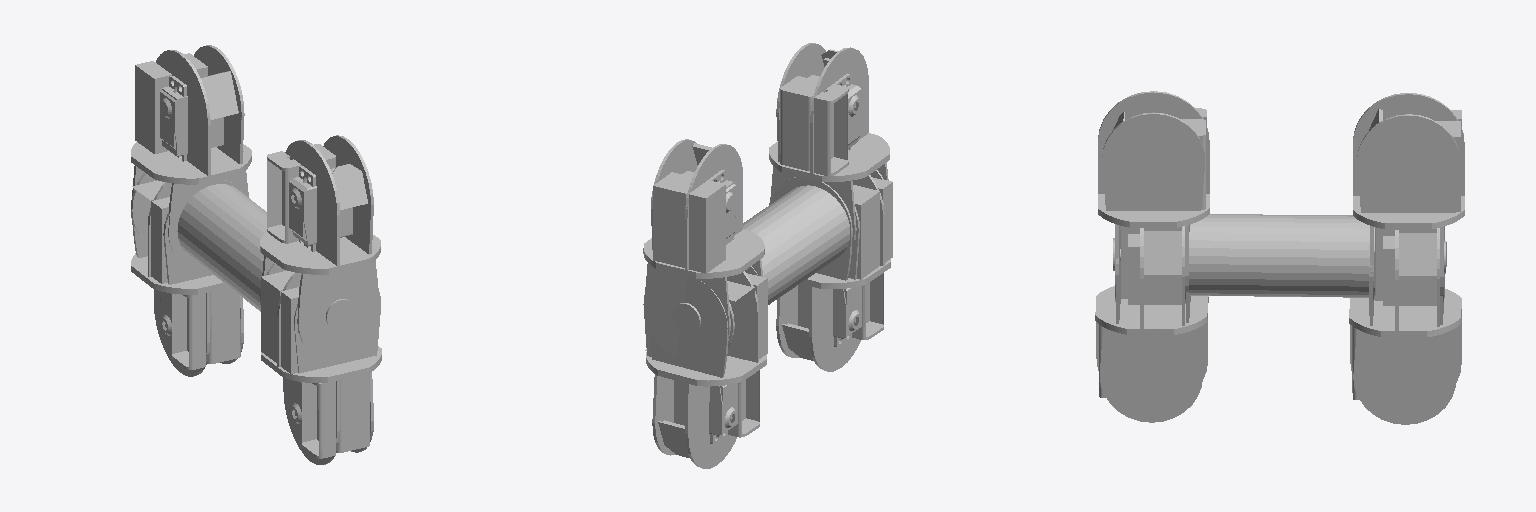
File: pezzomagico.obj
3 views of the same model, side by side, from view 1: azimuth 30°, elevation 25°; view 2: azimuth 150°, elevation 25°; view 3: azimuth 270°, elevation 25° (orthographic).
Visible parts, largest first — view 1: snake_body6_center_snake_body6_respondable.001; view 2: snake_body6_center_snake_body6_respondable.001; view 3: snake_body6_center_snake_body6_respondable.001.
Boxes of the visible parts, <box> form: snake_body6_center_snake_body6_respondable.001: <box>131,45,381,464</box>; snake_body6_center_snake_body6_respondable.001: <box>643,43,892,468</box>; snake_body6_center_snake_body6_respondable.001: <box>1095,91,1464,424</box>.
Size of the model in its own units: 0.0743 by 0.2252 by 0.2354.